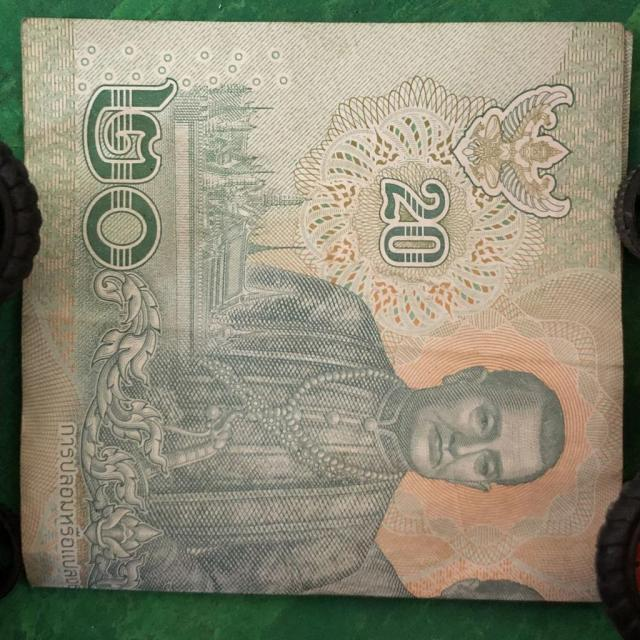THAI20: (21, 19, 631, 601)
